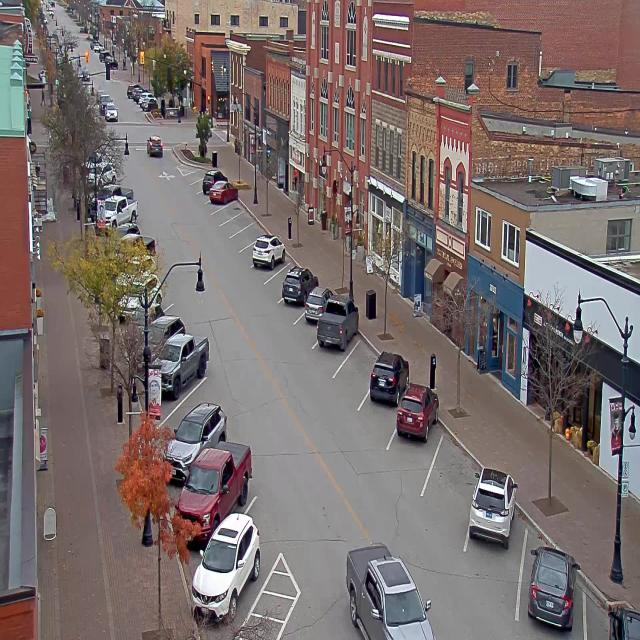available: (430, 425, 480, 514), (166, 360, 229, 414), (342, 332, 379, 389), (262, 263, 287, 304), (228, 225, 259, 252), (218, 212, 254, 233), (237, 243, 259, 270), (210, 202, 243, 219), (185, 168, 207, 182), (186, 179, 201, 196)
occupied: (191, 511, 261, 624), (179, 430, 256, 525), (163, 400, 227, 483), (527, 544, 579, 630), (468, 466, 517, 547), (153, 331, 210, 398), (395, 384, 436, 448), (316, 296, 358, 352), (592, 590, 639, 640), (368, 349, 409, 405), (282, 265, 318, 304), (252, 232, 285, 269), (302, 285, 330, 327), (209, 179, 238, 204), (202, 170, 214, 194)
